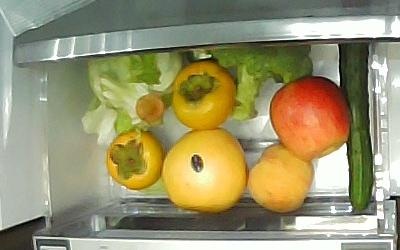apple: (269, 75, 350, 162)
broccoli: (210, 42, 314, 118)
cucumber: (338, 43, 373, 216)
grapefruit: (161, 128, 247, 214)
lettuce: (79, 51, 183, 145)
peach: (247, 144, 313, 212)
persimmon: (170, 59, 235, 127), (106, 130, 166, 191)
